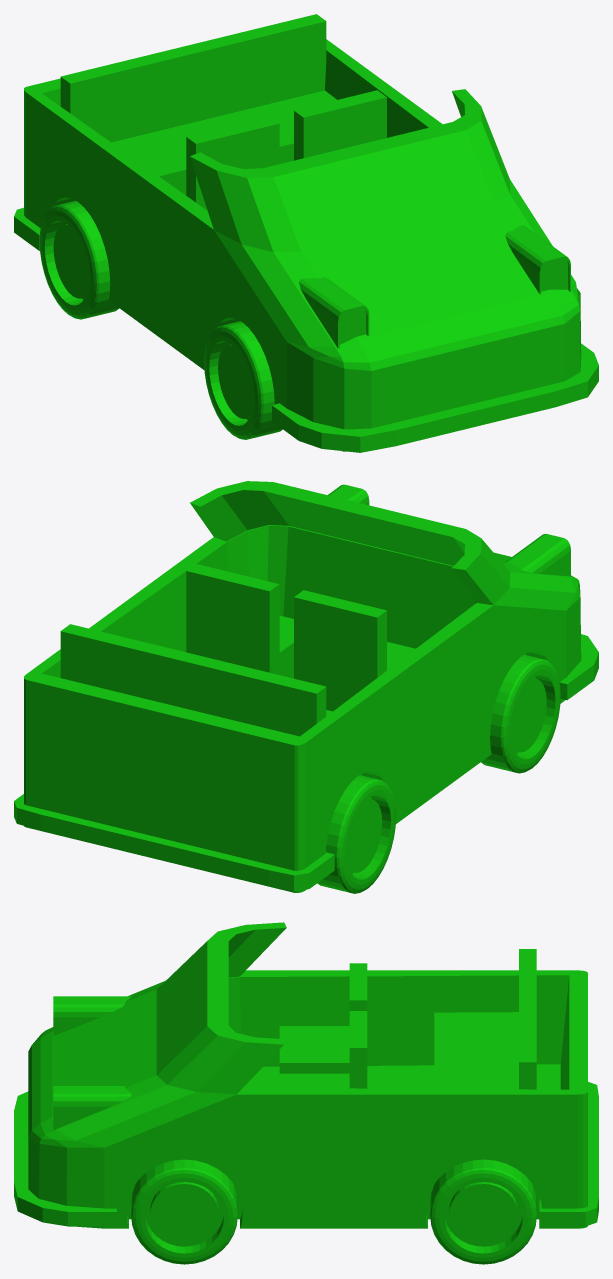
The model's file is car1.obj.
The picture shows the model from 3 angles, top to bottom: view 1: azimuth 30°, elevation 25°; view 2: azimuth 150°, elevation 25°; view 3: azimuth 270°, elevation 25°; orthographic projection. The views are drawn at different scales.
Visible parts, largest first — view 1: Body_立方体, WheelRR_円柱.006, WheelFR_円柱.007, SeatFL_立方体.003, SeatFR_立方体.004; view 2: Body_立方体, SeatFL_立方体.003, SeatFR_立方体.004, WheelFR_円柱.007, WheelRR_円柱.006; view 3: Body_立方体, WheelFL_円柱.004, WheelRL_円柱.005, SeatFR_立方体.004, SeatFL_立方体.003.
Boxes of the visible parts, x1,y1,x2,y2 form: Body_立方体: (14, 14, 598, 452); WheelRR_円柱.006: (39, 201, 119, 319); WheelFR_円柱.007: (204, 321, 282, 439); SeatFL_立方体.003: (294, 90, 386, 160); SeatFR_立方体.004: (186, 116, 279, 210); Body_立方体: (14, 481, 598, 892); SeatFL_立方体.003: (186, 564, 293, 678); SeatFR_立方体.004: (294, 590, 415, 711); WheelFR_円柱.007: (481, 654, 560, 773); WheelRR_円柱.006: (317, 775, 396, 893); Body_立方体: (14, 922, 598, 1228); WheelFL_円柱.004: (131, 1159, 237, 1264); WheelRL_円柱.005: (430, 1159, 536, 1264); SeatFR_立方体.004: (279, 963, 367, 1073); SeatFL_立方体.003: (279, 1011, 367, 1088).
Size of the model in its own units: 4.5 by 3.37 by 8.29.
